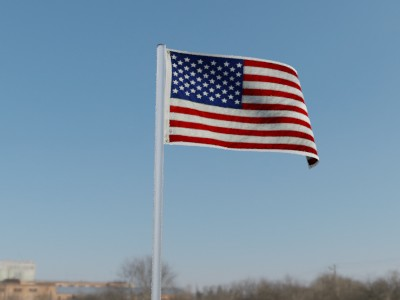America flag: (162, 50, 323, 172)
